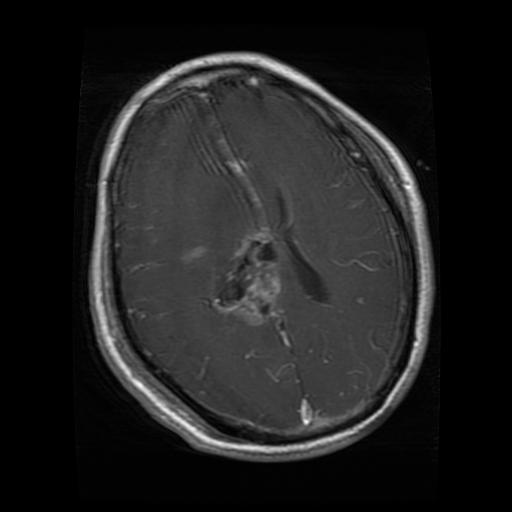Gliomia_tumour: (211, 227, 283, 324)
